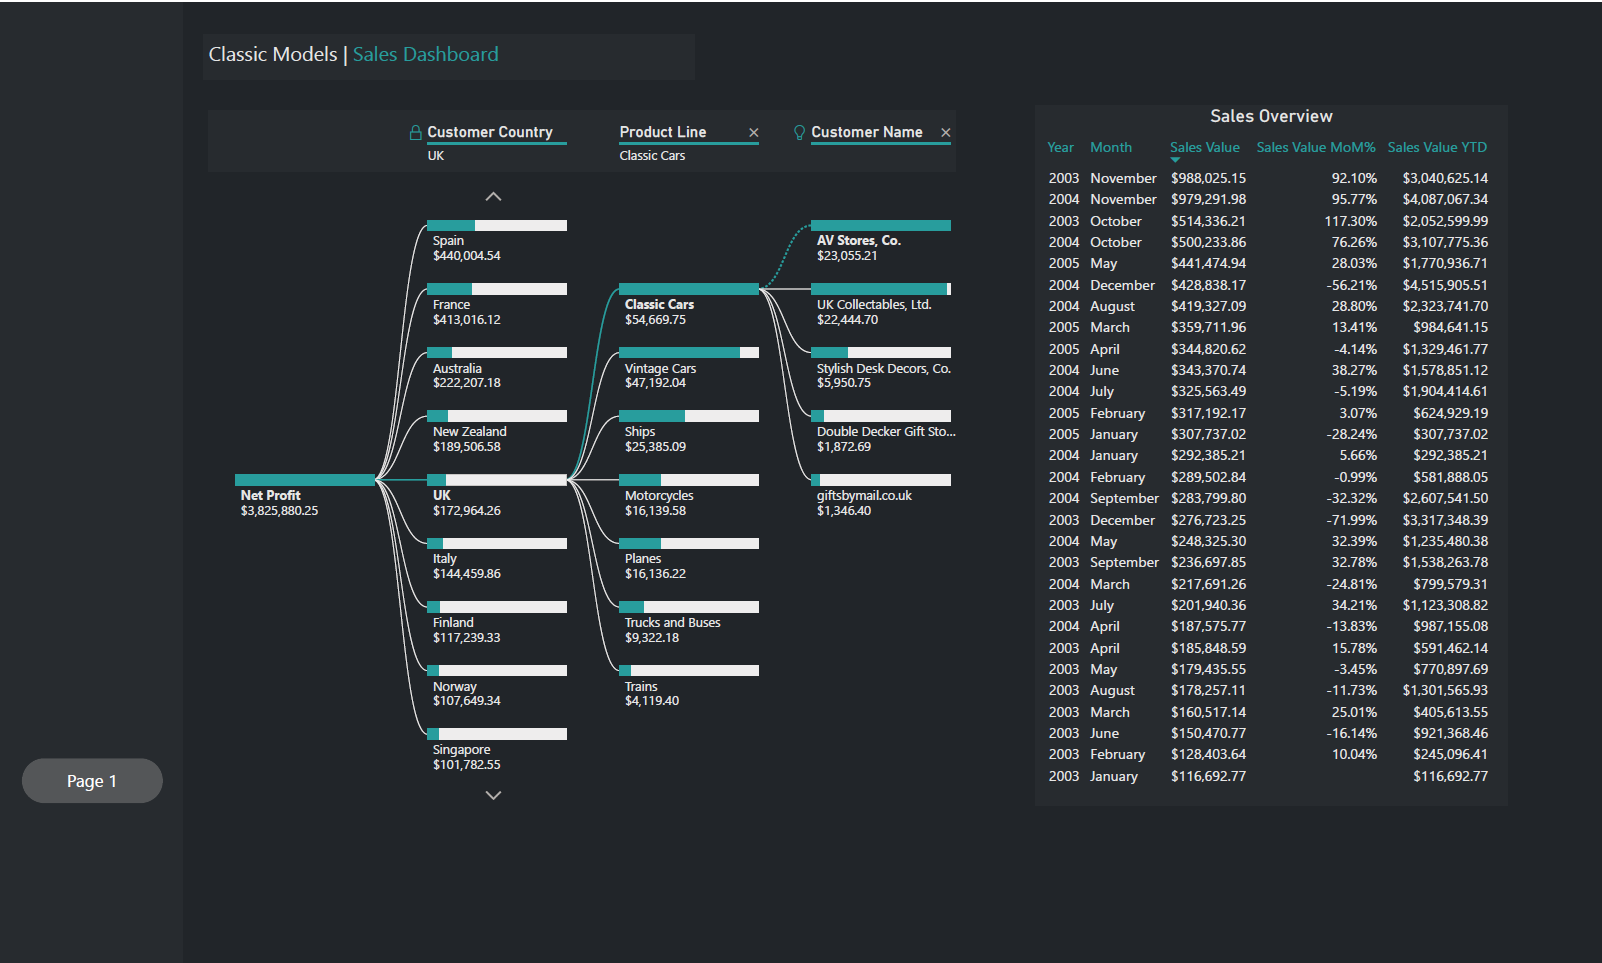

The dashboard page shown, as its layout file describes it:
{"tool":"powerbi","page":{"name":"Sales Overview - Page 2","canvas":[1500,900],"ordinal":1},"visuals":[{"type":"shape","box":[0,0,170,900],"z":0},{"type":"decompositionTreeVisual","fields":{"Analyze":["classicmodels sales_data_for_power_bi.Net Profit"],"ExplainBy":["classicmodels sales_data_for_power_bi.customer_country","classicmodels sales_data_for_power_bi.productLine","classicmodels sales_data_for_power_bi.customerName"]},"box":[190,96,710,680],"z":1000},{"type":"textbox","box":[190,30,460,42],"z":2000},{"type":"tableEx","title":"Sales Overview","fields":{"Values":["classicmodels sales_data_for_power_bi.orderdate.Variation.Date Hierarchy.Year","classicmodels sales_data_for_power_bi.orderdate.Variation.Date Hierarchy.Month","Sum(classicmodels sales_data_for_power_bi.sales_value)","classicmodels sales_data_for_power_bi.Sum of sales_value MoM%","classicmodels sales_data_for_power_bi.Sum of sales_value YTD"]},"box":[970,96,442,656],"z":3000},{"type":"actionButton","box":[20,708,132,42],"z":3001}]}

Visuals, with their boxes in screenshot pixels (x1, y1, x2, y2), scaled from the page's 1500x900 canvas onto the 1602x963 screenshot:
shape: [0,0,182,962]
decompositionTreeVisual - classicmodels sales_data_for_power_bi.Net Profit x classicmodels sales_data_for_power_bi.customer_country: [203,103,961,830]
textbox: [203,32,694,77]
"Sales Overview" tableEx: [1036,103,1508,805]
actionButton: [21,758,162,802]
